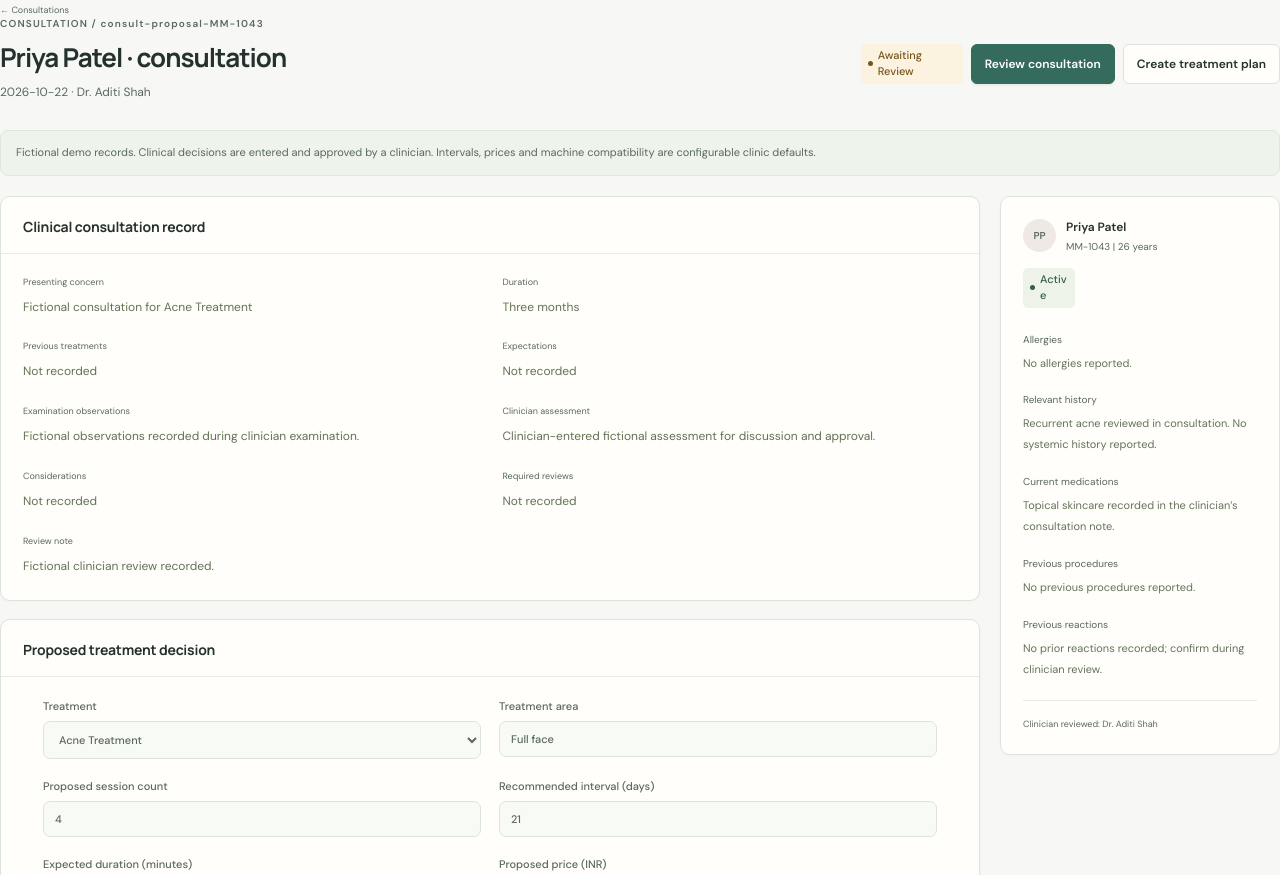
Test: clinical workspaces › records explicit consultation review and links to the patient and builder
Click the button "Review consultation": (1043, 64) [971,44,1115,84]
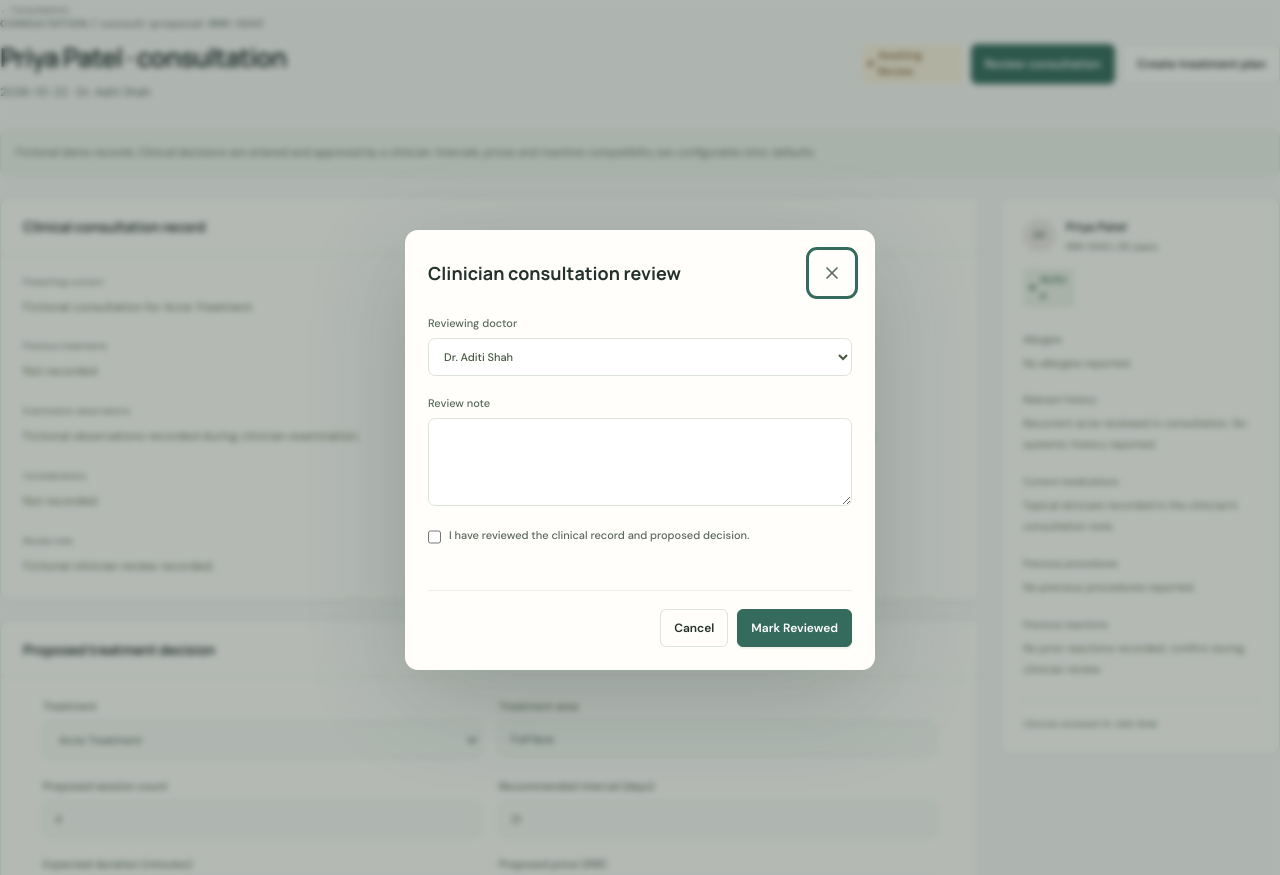
In the text box named "Consultation review note": (640, 462) [428,418,852,506], type "Reviewed the fictional history, examination and decision."
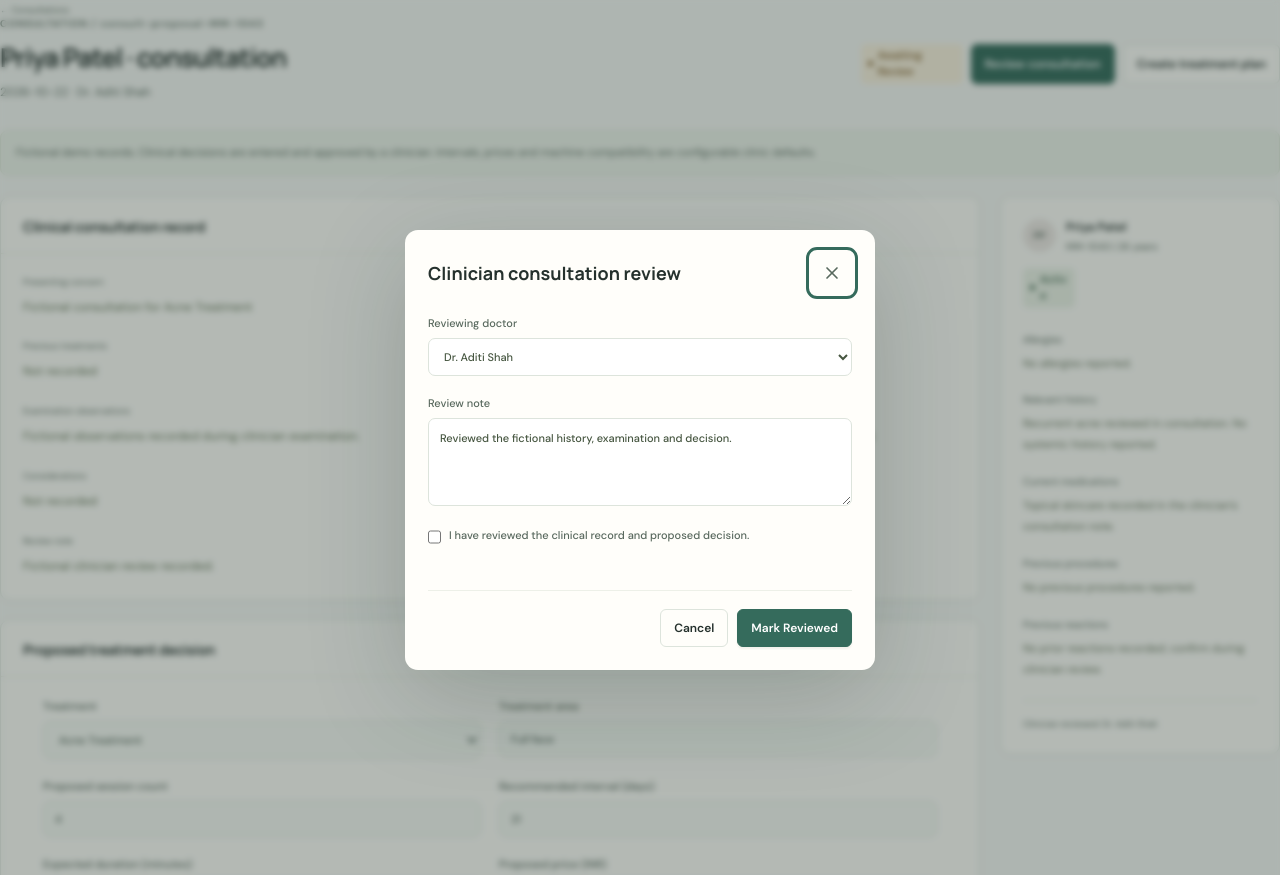
Click the checkbox: (434, 537) [428,530,441,544]
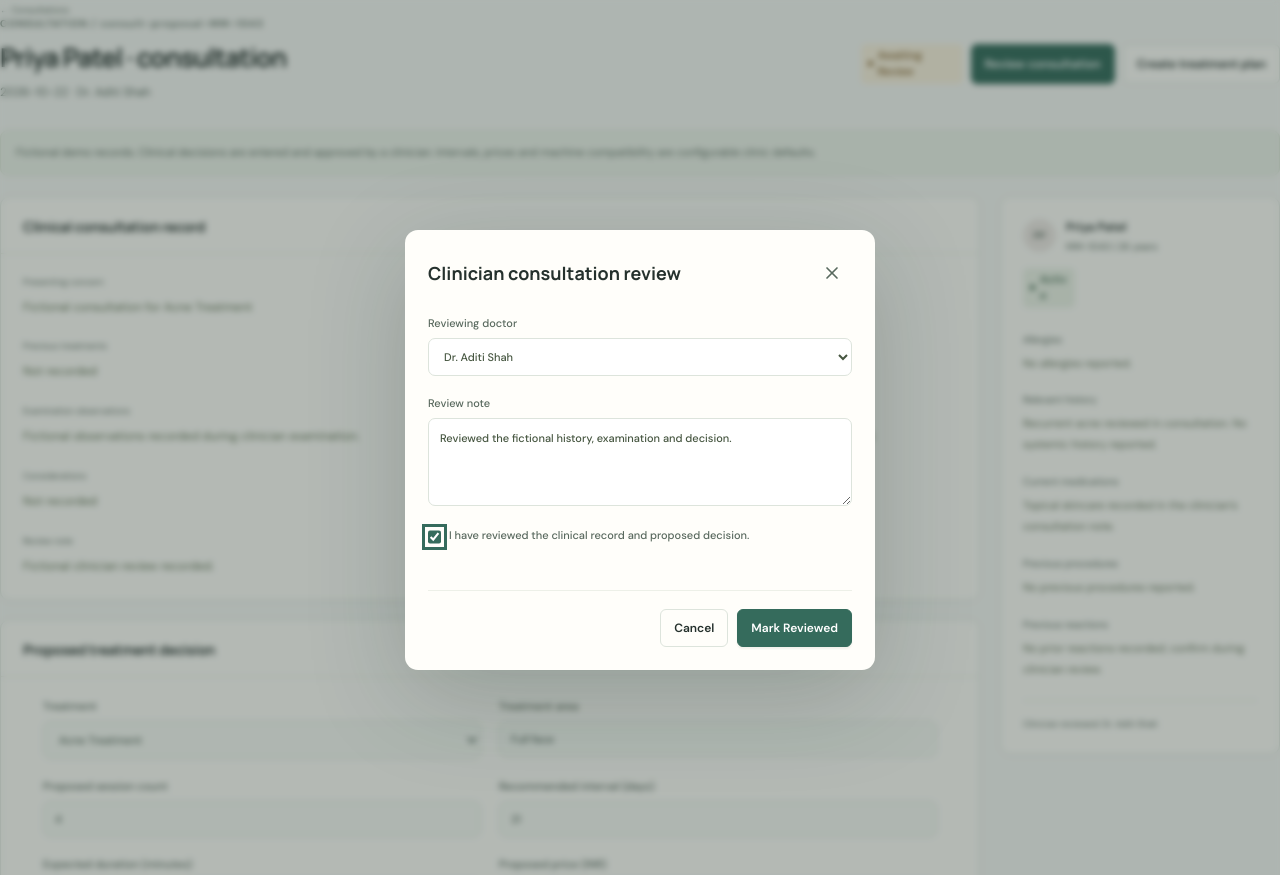
Click the button "Mark Reviewed": (795, 628) [737,609,852,647]
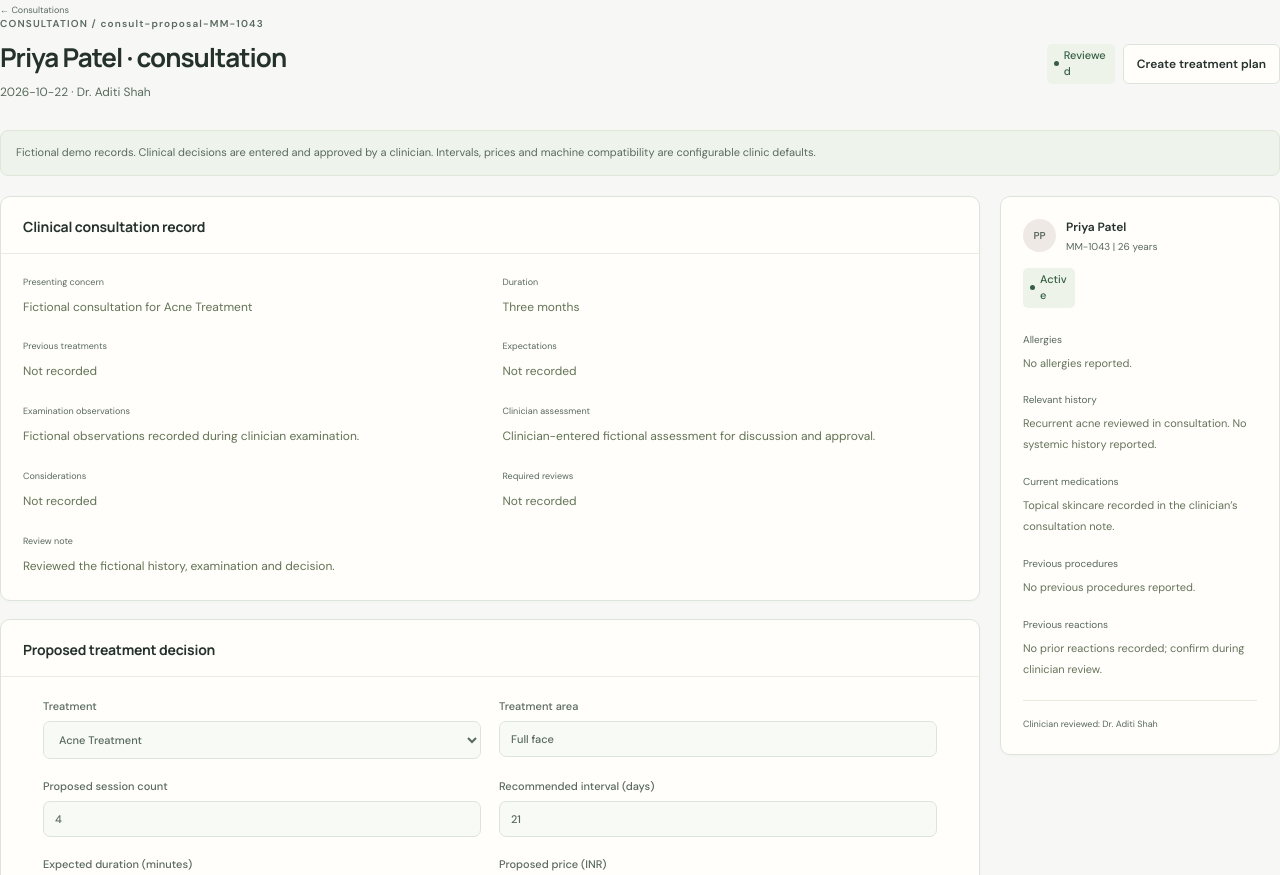
expect the text "Reviewed" is shown: met, box [1047,44,1115,84]
Click the button "Create treatment plan": (1201, 64) [1123,44,1279,84]
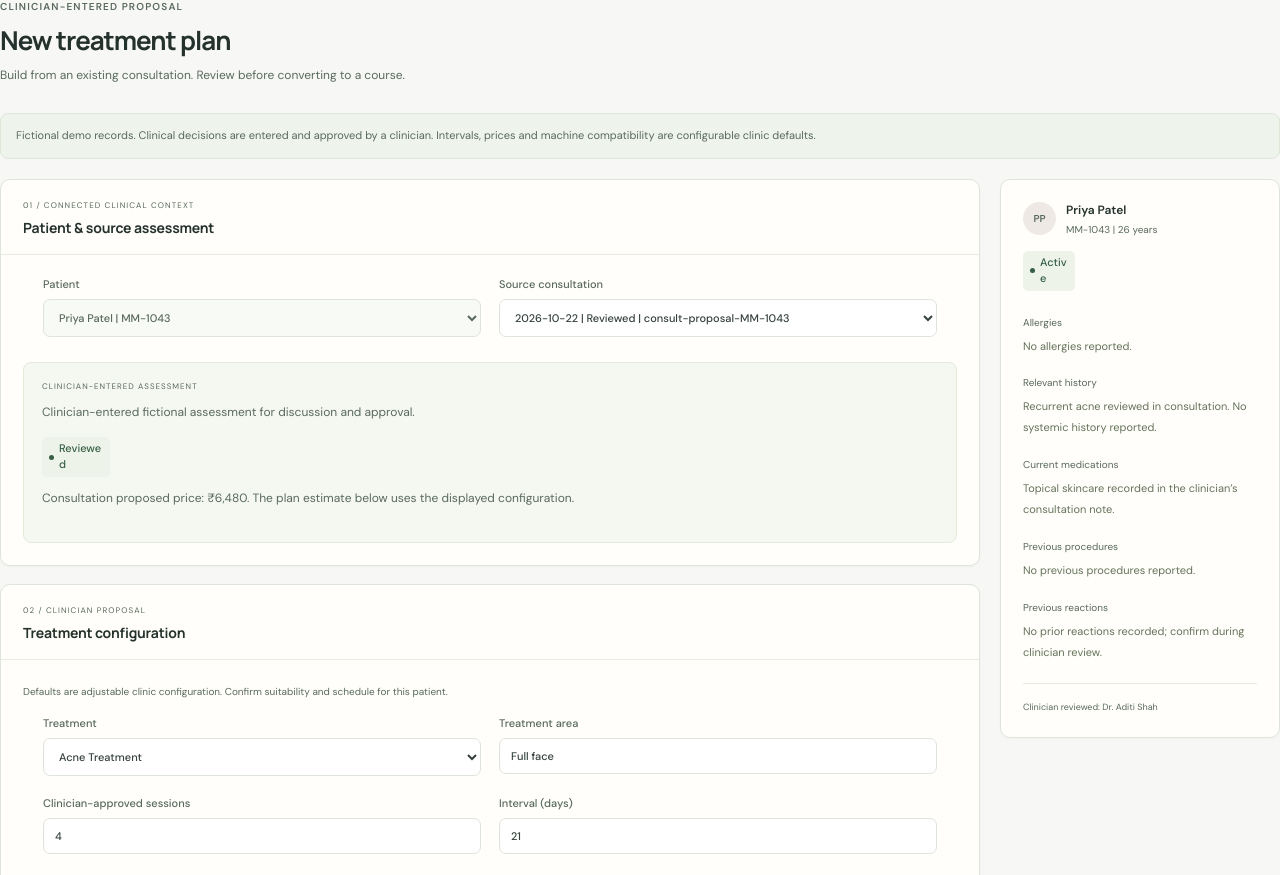
expect the heading "New treatment plan" is shown: met, box [0,22,231,58]
expect the dropdown labelled "Source consultation" shows "2026-10-22 | Reviewed | consult-proposal-MM-1043": met, box [499,299,937,337]
expect the dropdown labelled "Patient" shows "Priya Patel | MM-1043": met, box [43,299,481,337]
